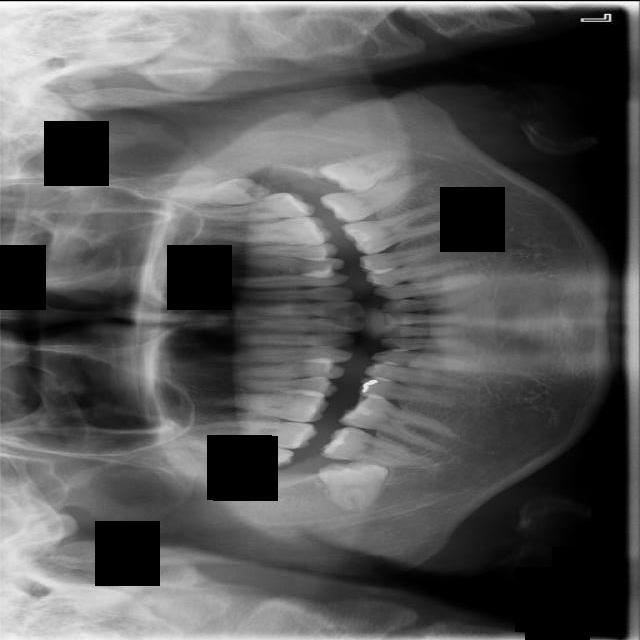3M ESPE Implant: (180, 429, 295, 479)
52: (355, 371, 396, 403)
73: (554, 56, 566, 64)
BioHorizons Implant: (191, 189, 315, 223)
BioLife Implant: (159, 171, 270, 206)
Biomet 3i Implant: (316, 147, 408, 199)
Blue Sky Bio Implant: (318, 174, 417, 228)
Caries: (188, 414, 319, 450)
Implant: (318, 421, 423, 471)
Keystone Dental Implant: (316, 459, 388, 509)
